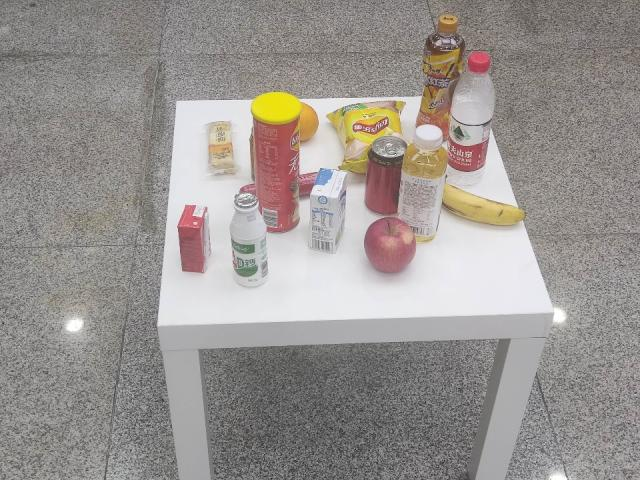Canned_drinks: (367, 132, 403, 218)
bottle: (446, 48, 494, 186)
cylinder: (248, 89, 306, 239)
drink_box: (308, 157, 352, 259), (173, 198, 219, 279)
